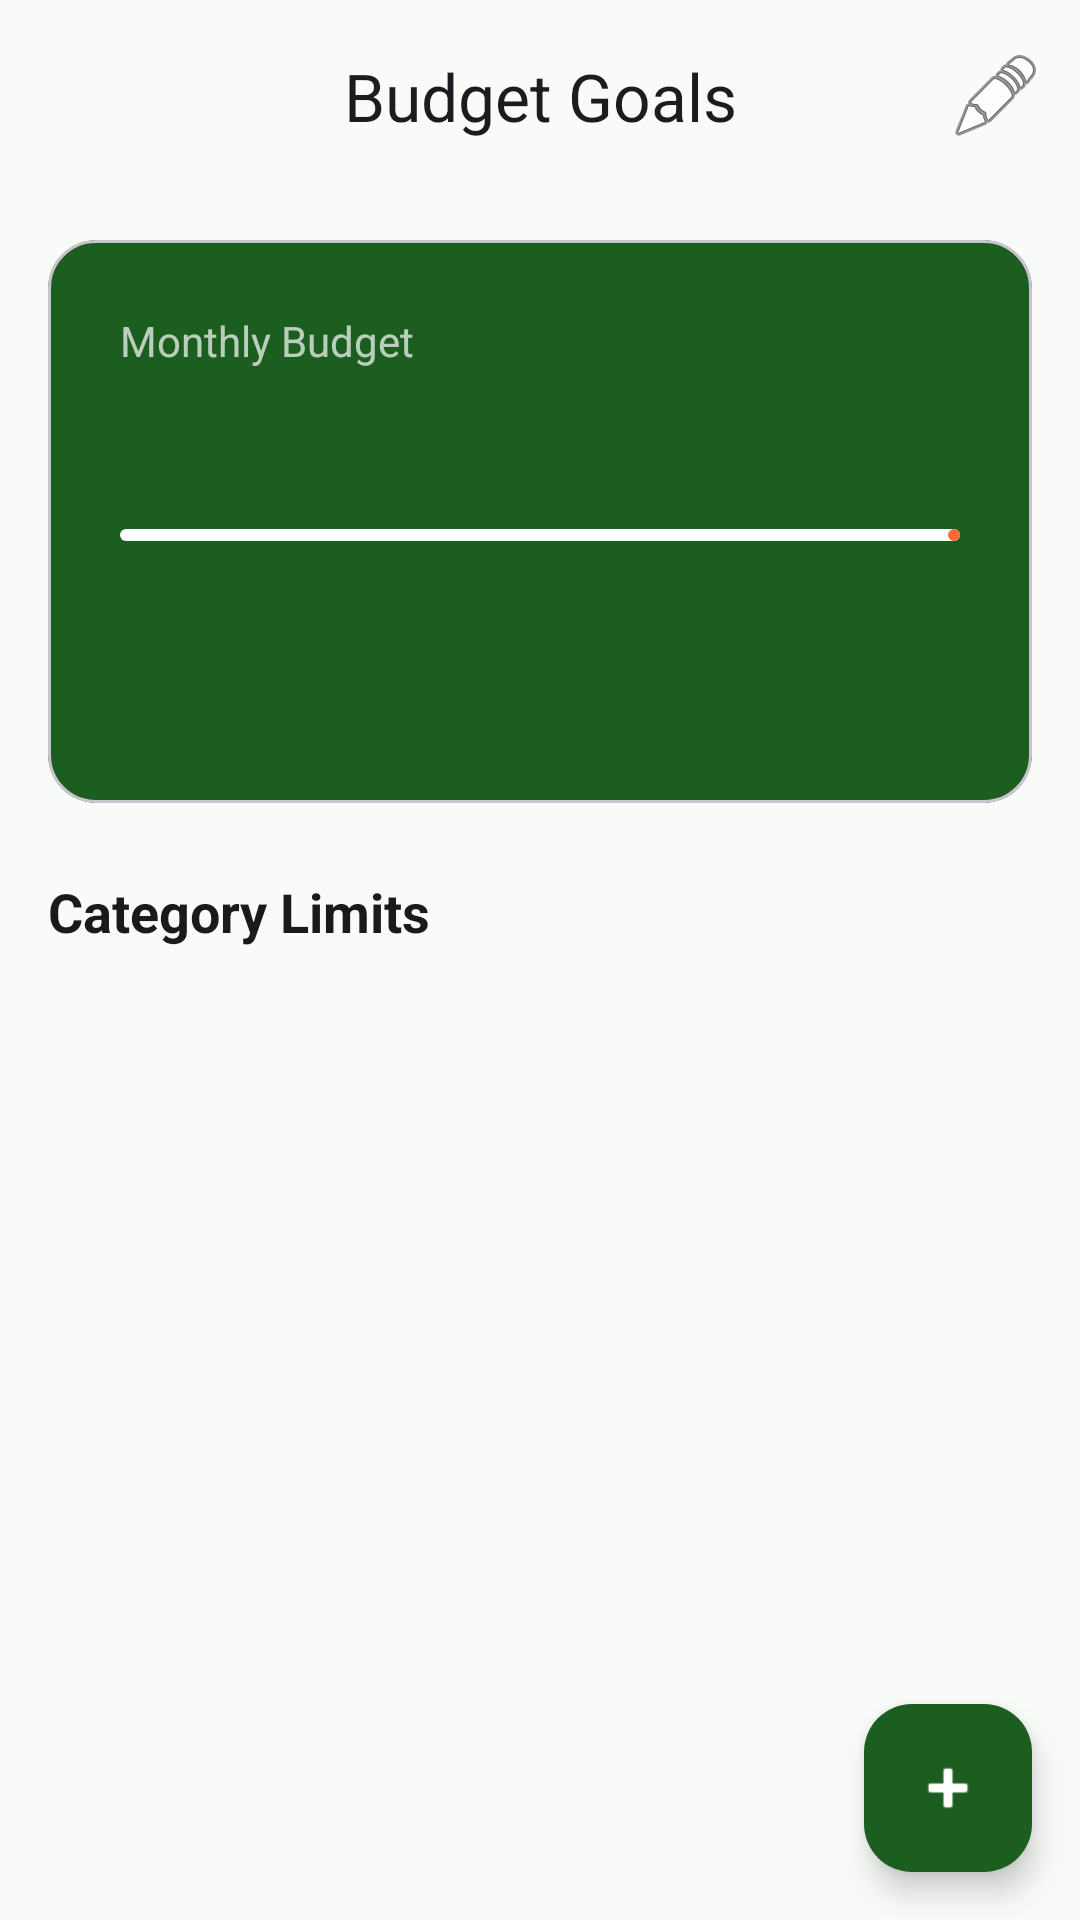

Locate icon controls on the screen. Image size 1080×1920, boxes as (x1, y1, x2, y2).
Add budget goal: (864, 1704, 1032, 1872)
